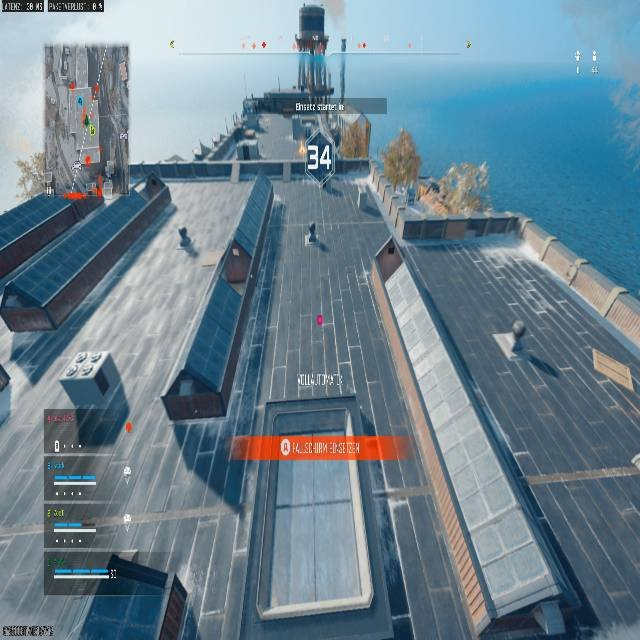player: (177, 225, 198, 257)
